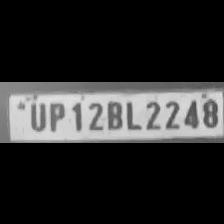1: (68, 99, 84, 131)
2: (140, 97, 162, 129), (84, 98, 104, 132), (160, 97, 180, 129)
4: (181, 96, 199, 128)
8: (201, 96, 219, 128)
B: (104, 98, 122, 130)
L: (122, 98, 140, 130)
P: (45, 99, 65, 131)
U: (25, 99, 47, 130)
